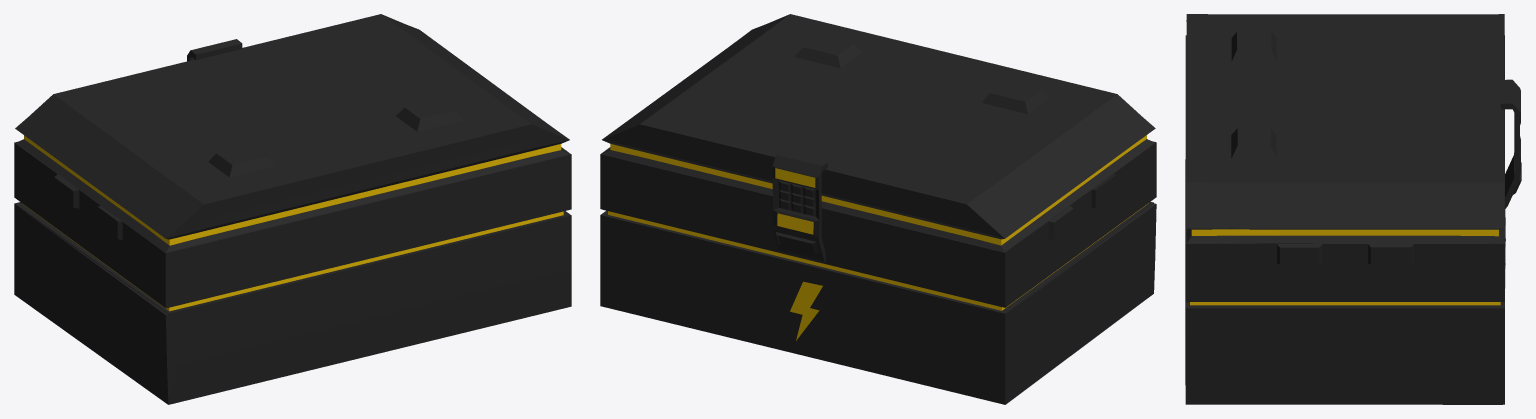
The model's file is caja sin tarjeta .fbx.
3 views of the same model, side by side, from view 1: azimuth 30°, elevation 25°; view 2: azimuth 150°, elevation 25°; view 3: azimuth 270°, elevation 25° (orthographic). The views are drawn at different scales.
Visible parts, largest first — view 1: Tapa de Caja4Capsulas1, Tapa de Caja4Capsulas1.003; view 2: Tapa de Caja4Capsulas1, Tapa de Caja4Capsulas1.003; view 3: Tapa de Caja4Capsulas1.003, Tapa de Caja4Capsulas1.
Boxes of the visible parts, left/top/right/bottom form: Tapa de Caja4Capsulas1: left=14, top=142, right=571, bottom=404; Tapa de Caja4Capsulas1.003: left=15, top=14, right=569, bottom=252; Tapa de Caja4Capsulas1: left=600, top=141, right=1156, bottom=404; Tapa de Caja4Capsulas1.003: left=602, top=14, right=1155, bottom=252; Tapa de Caja4Capsulas1.003: left=1186, top=14, right=1520, bottom=243; Tapa de Caja4Capsulas1: left=1185, top=35, right=1521, bottom=404.
Size of the model in its own units: 105 by 48.83 by 70.
1 material, 1 textured.
